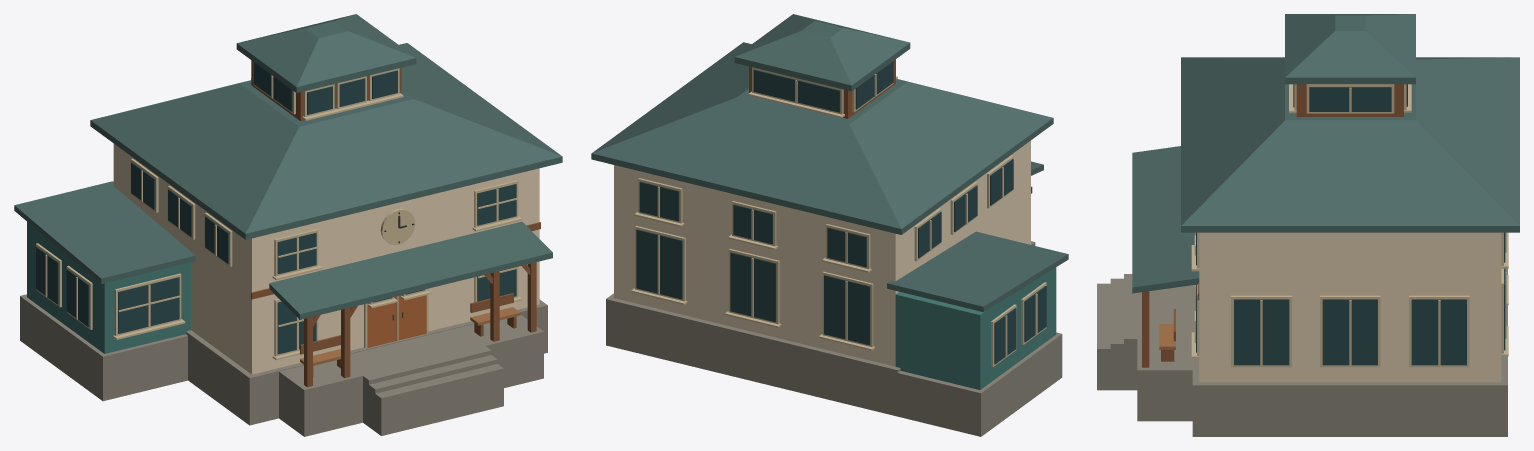
Rendered from civic_hall.meshopt.glb.
3 views of the same model, side by side, from view 1: azimuth 30°, elevation 25°; view 2: azimuth 150°, elevation 25°; view 3: azimuth 270°, elevation 25° (orthographic). The views are drawn at different scales.
Parts seen in each view (by area): view 1: civic_hall; view 2: civic_hall; view 3: civic_hall.
Part boxes in pixels (x1,y1,x2,y2): civic_hall: [14, 14, 562, 436]; civic_hall: [591, 14, 1068, 436]; civic_hall: [1097, 14, 1519, 436].
Bounding box in the file's own units: 14.9 × 11 × 12.6.
